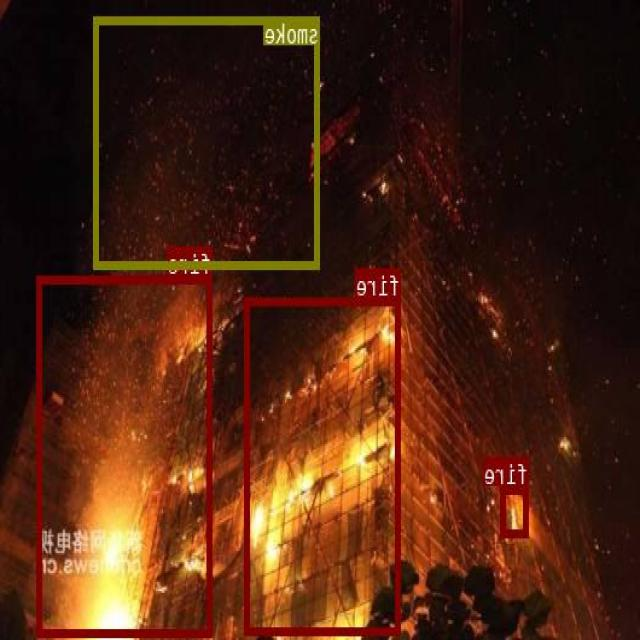fire: (37, 275, 214, 635), (246, 296, 401, 633), (502, 486, 529, 536)
smoke: (96, 15, 320, 268)
